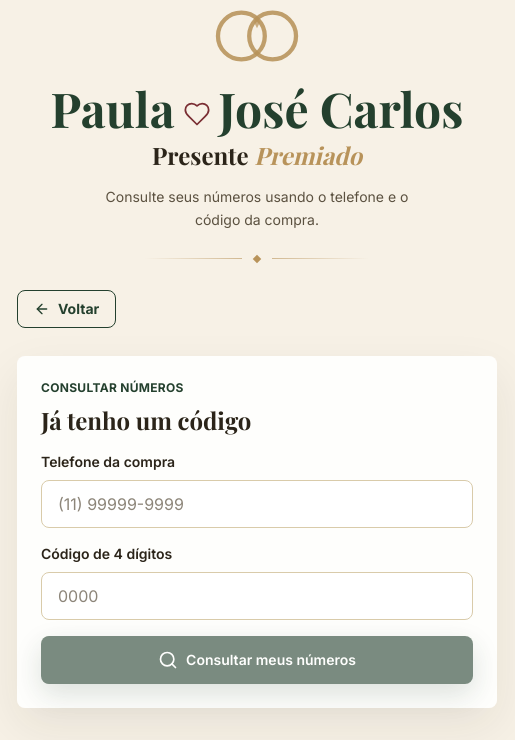
Test: App › recovers lucky numbers by phone and code from the recovery page
In the field labelled "Telefone da compra": (257, 504) x1=41 y1=480 x2=473 y2=528, type "11999999999"
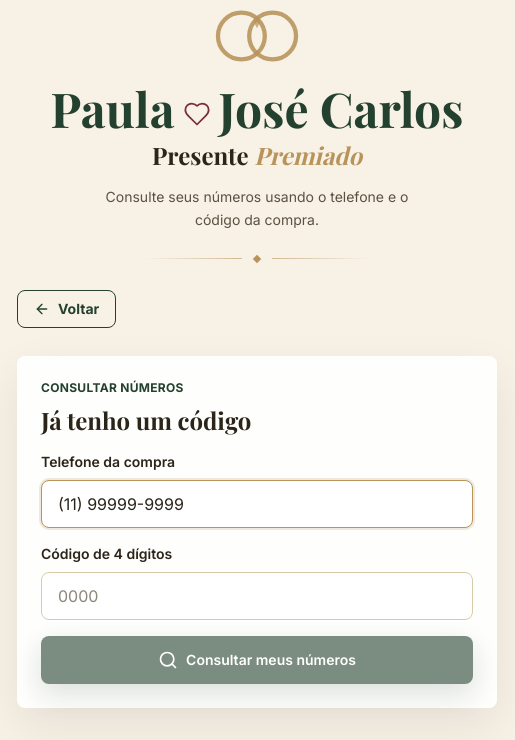
In the field labelled "Código de 4 dígitos": (257, 596) x1=41 y1=572 x2=473 y2=620, type "4821"
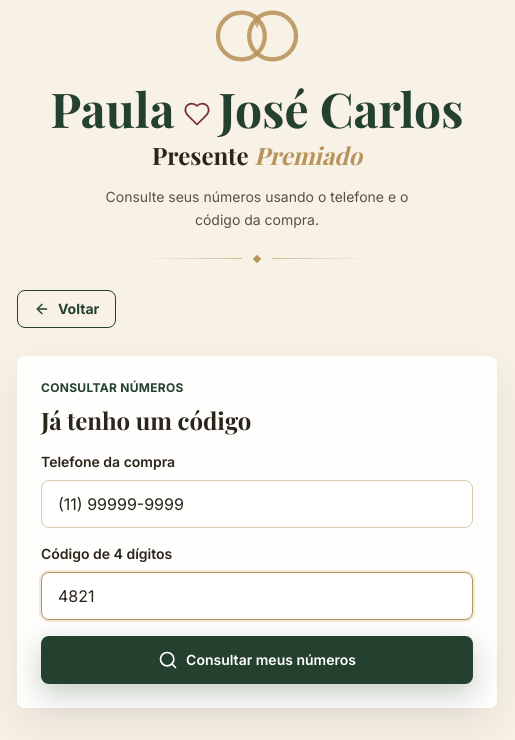
Click the button "Consultar meus números": (257, 660) x1=41 y1=636 x2=473 y2=684
(page scrolled)
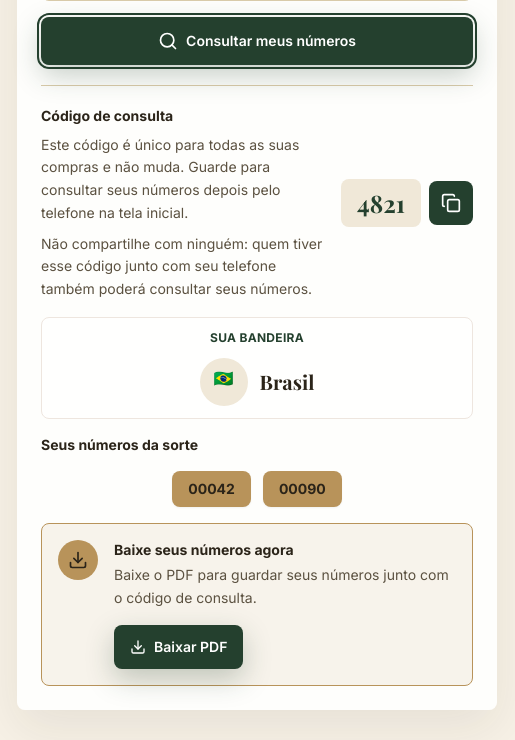
Expected: the text "00042" is shown, x1=172 y1=471 x2=251 y2=507
Expected: the text "00090" is shown, x1=263 y1=471 x2=342 y2=507
Expected: the text "Sua bandeira" is shown, x1=210 y1=330 x2=304 y2=345
